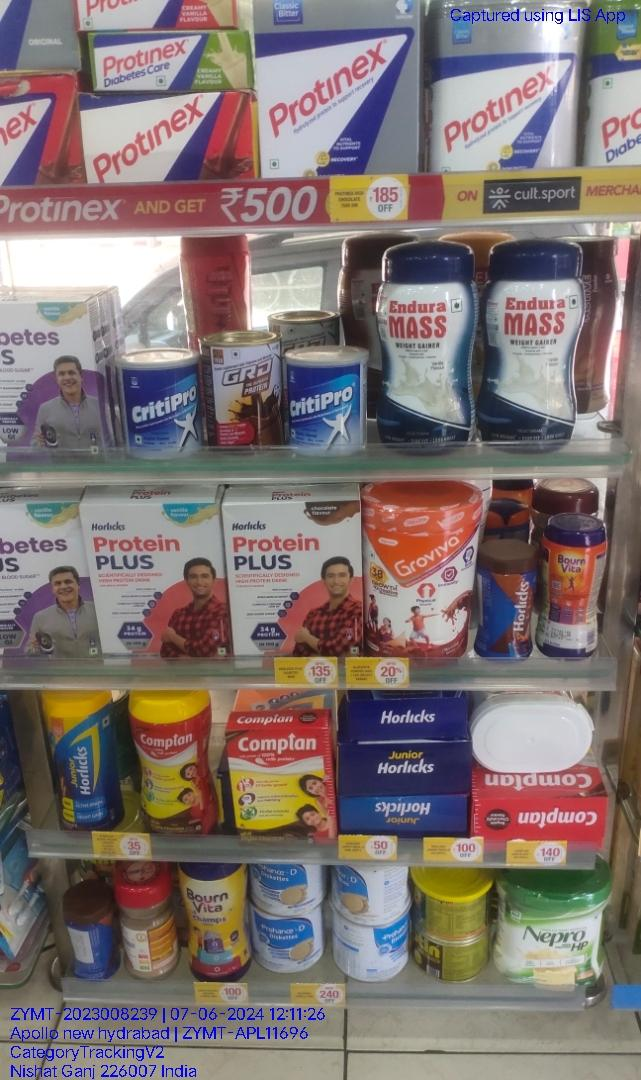BOURN_VITA_CHAMPS_500_G_JAR: (182, 860, 251, 986)
COMPLAN_CHOCOLATE_200_GMS_PACK: (230, 728, 331, 840)
COMPLAN_CHOCOLATE_500_GMS_JAR: (129, 695, 202, 843)
PROTINEX_ORIGINAL_400_G_JAR: (432, 0, 573, 174)
